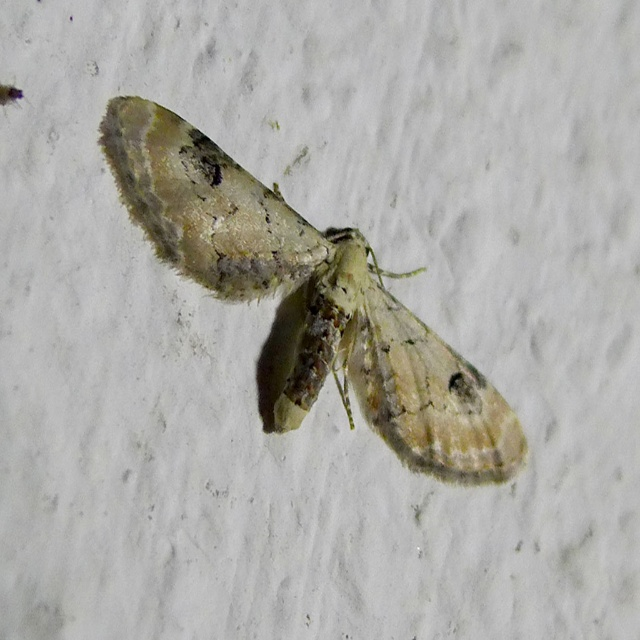Moths and butterflies: (100, 94, 534, 486)
